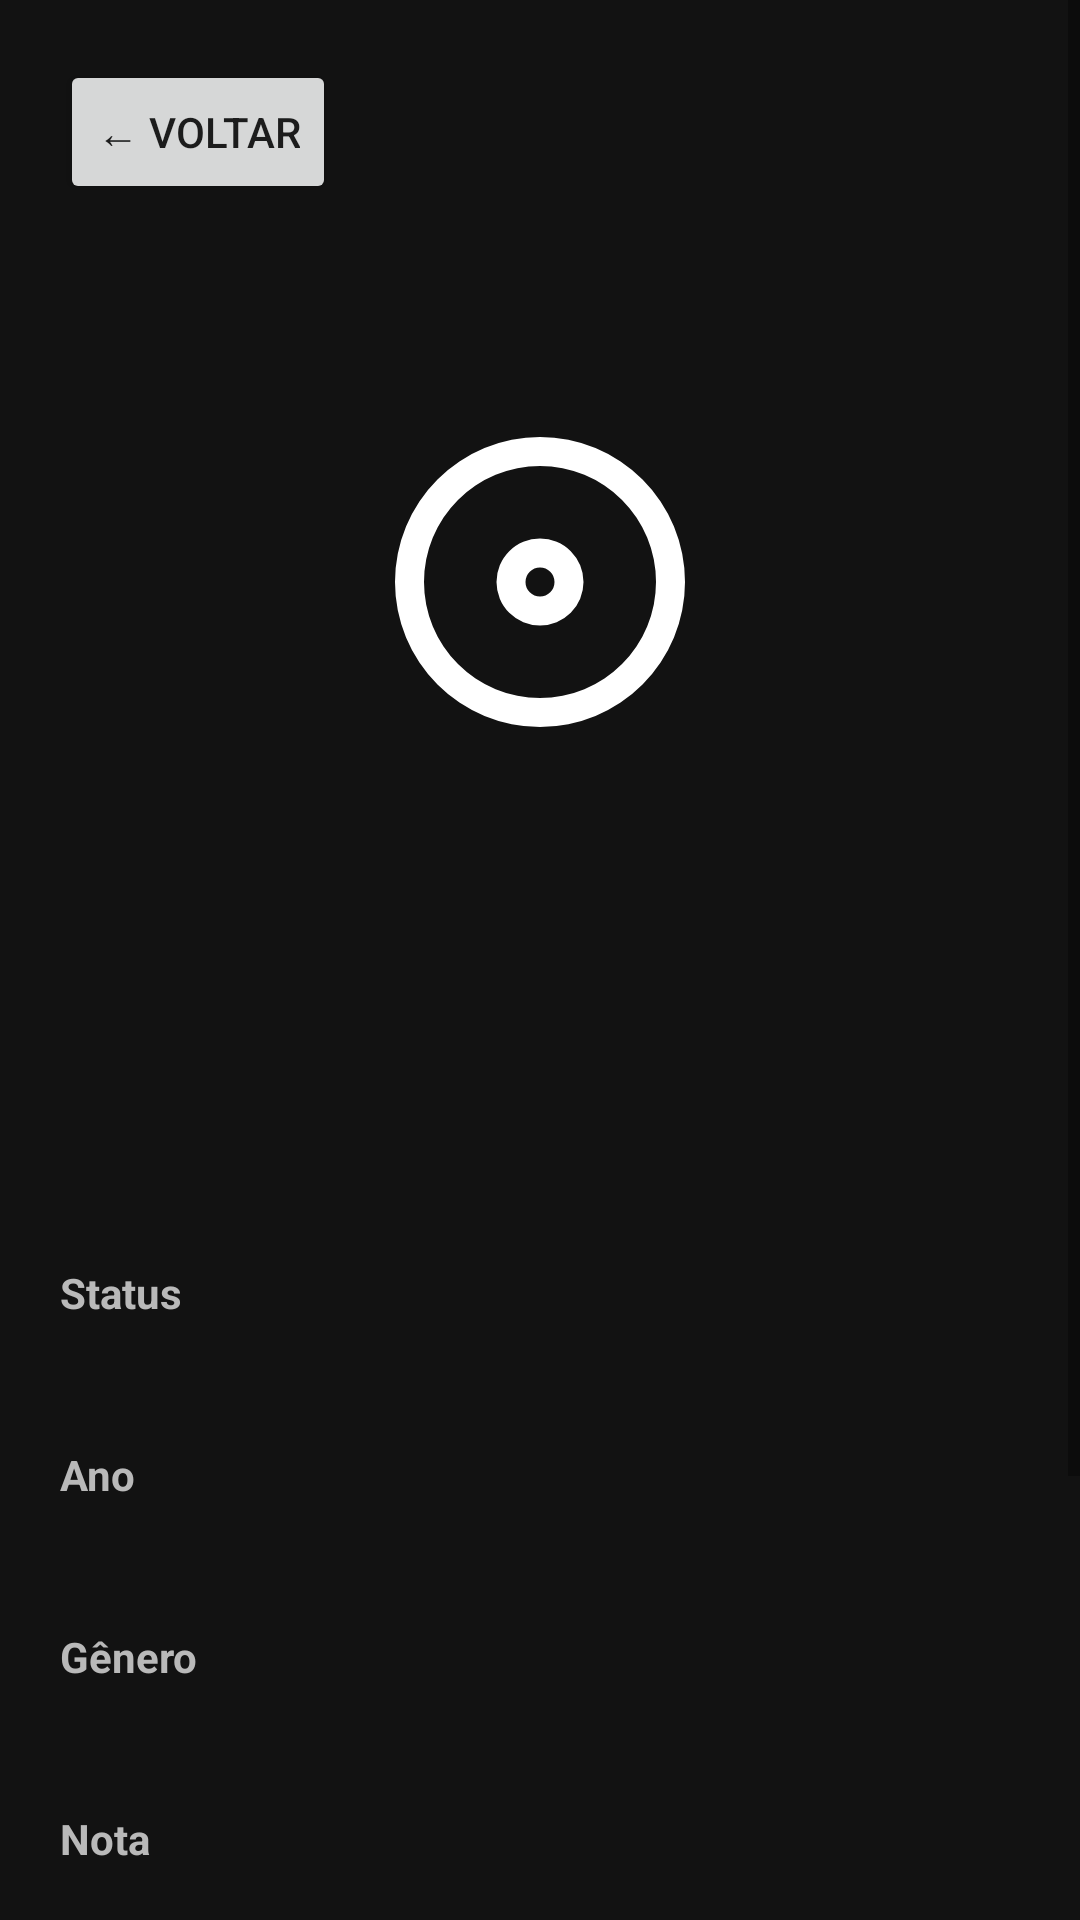

Icon bounding boxes for this 1080 × 1920 phone screenshot, format detection(x1, y1, x2, y2):
Capa ilustrativa do álbum: detection(395, 437, 685, 727)
